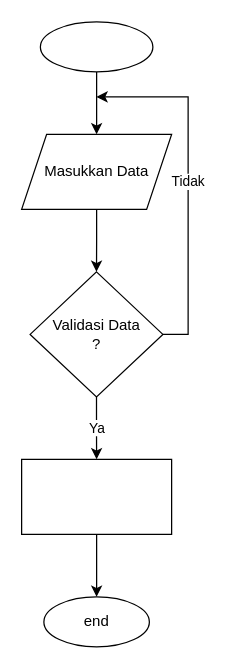
Some shapes in this 228 by 669 pixel diagram are drawn without their labels. Here are the shapes that lost their labels. From the top down, the centre of each, then its label:
(96,46): start
(96,496): Proses Data dan Simpan Data
